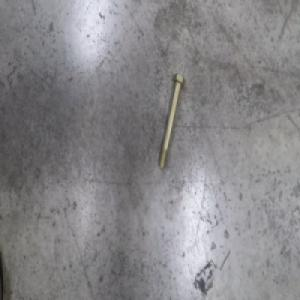Bolt: (157, 73, 185, 172)
